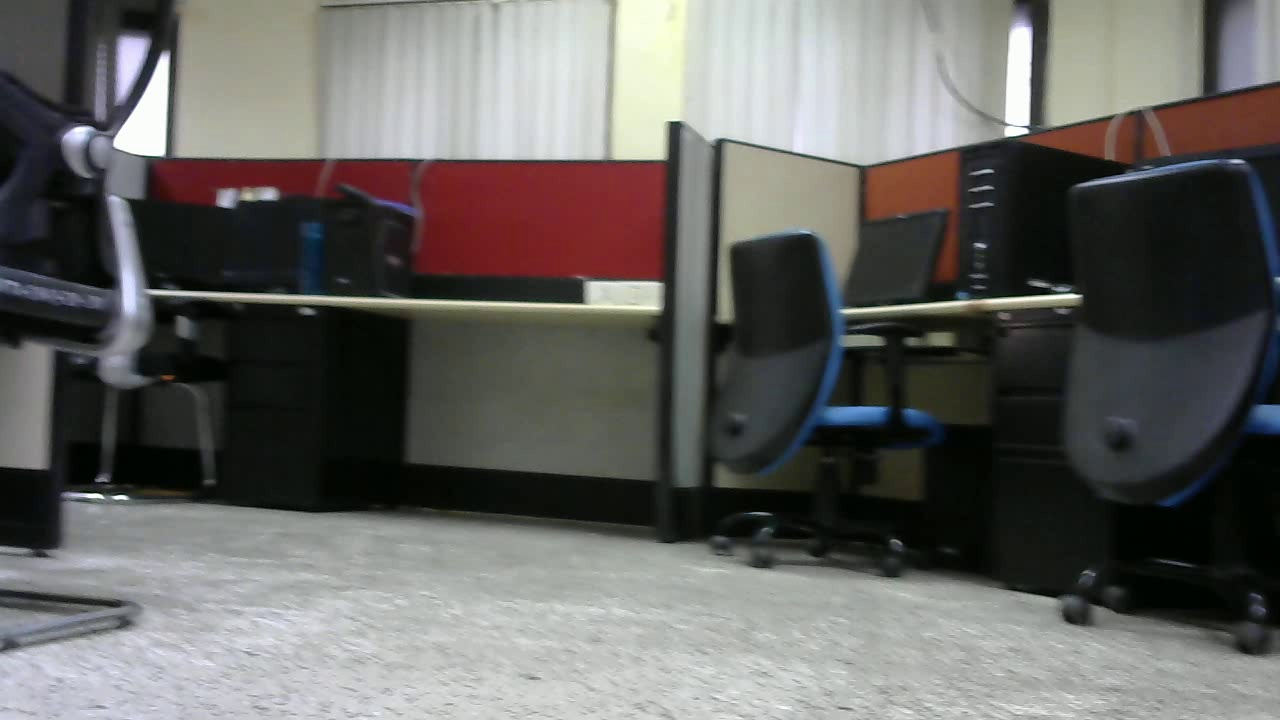chair: (1044, 150, 1280, 653), (700, 234, 947, 578)
